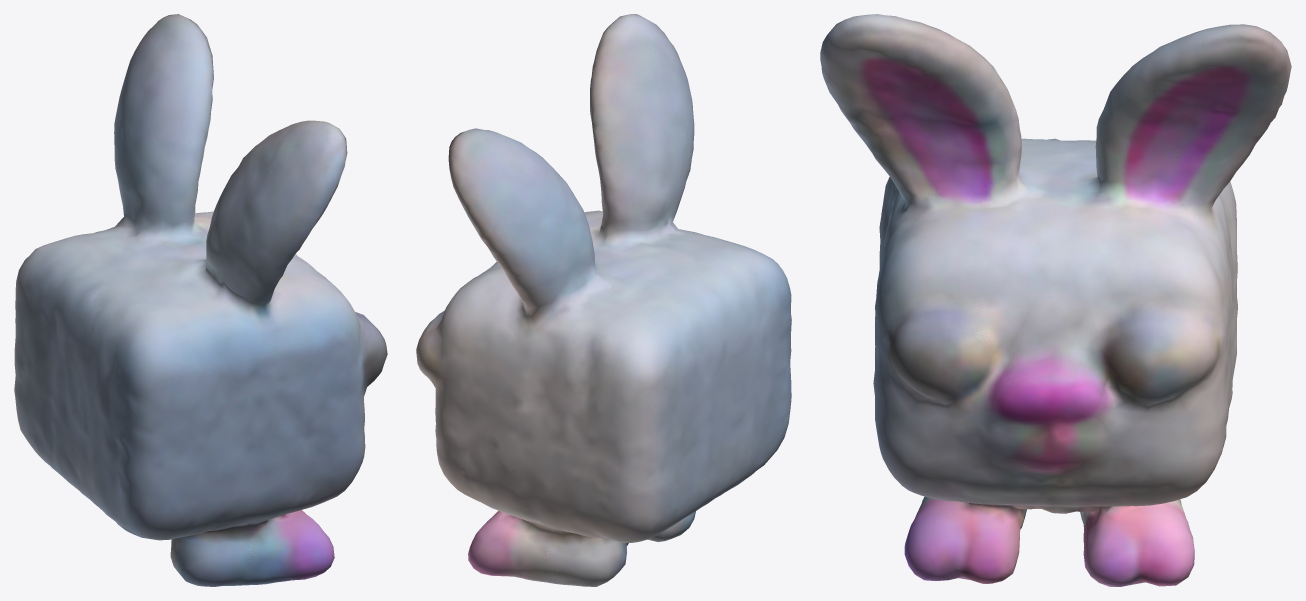
The model's file is 028_Create_rabbit_with_Square_face_with_a_calm_expression__0614161216_preview.obj.
The picture shows the model from 3 angles, left to right: view 1: azimuth 30°, elevation 25°; view 2: azimuth 150°, elevation 25°; view 3: azimuth 270°, elevation 25°; orthographic projection. The views are drawn at different scales.
Visible parts, largest first — view 1: Mesh1; view 2: Mesh1; view 3: Mesh1.
Boxes of the visible parts, left/top/right/bottom form: Mesh1: left=14, top=14, right=387, bottom=586; Mesh1: left=416, top=14, right=791, bottom=586; Mesh1: left=820, top=14, right=1291, bottom=586.
Size of the model in its own units: 0.7216 by 1.2 by 0.9075.
1 material, 1 textured.
